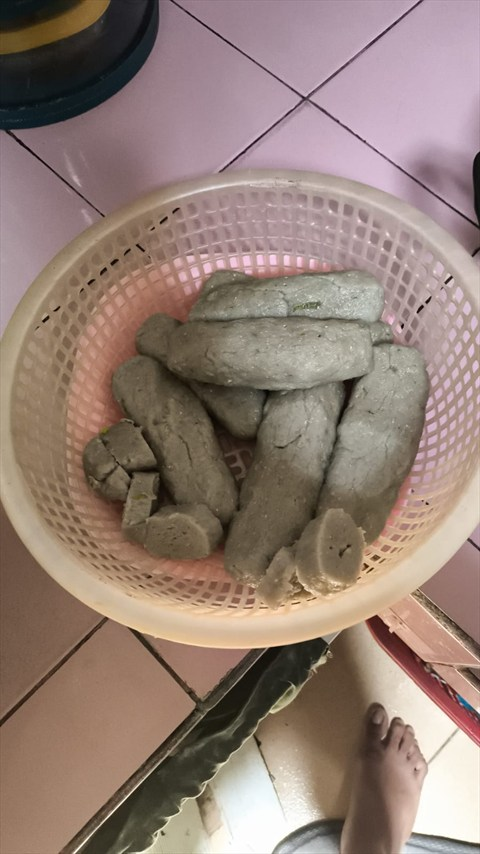Pempek: (55, 41, 458, 837)
